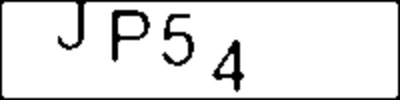4: (210, 36, 246, 92)
5: (158, 10, 198, 69)
J: (56, 1, 89, 51)
P: (107, 6, 153, 63)
